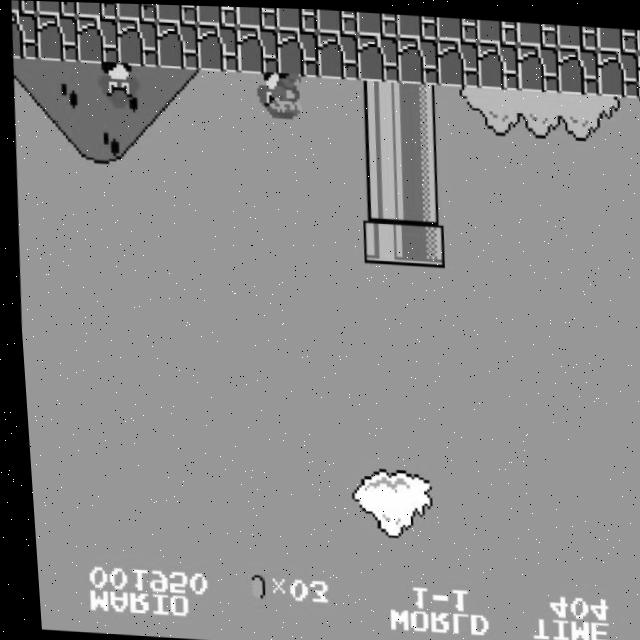11- little_mario: (257, 69, 305, 120)
14- pipe: (355, 78, 401, 126), (396, 126, 442, 174), (395, 80, 441, 128), (356, 123, 401, 171), (357, 170, 402, 217), (397, 172, 442, 219)
15- pipe_head: (357, 215, 403, 263), (397, 217, 443, 265)
17- undestructible_block: (274, 27, 320, 75), (314, 30, 360, 78), (354, 32, 400, 80), (394, 34, 440, 82), (434, 37, 480, 85), (474, 39, 520, 87), (34, 13, 79, 61), (74, 16, 119, 64), (114, 18, 159, 66), (154, 21, 199, 69), (194, 22, 239, 70), (234, 25, 279, 73), (515, 41, 560, 89), (555, 43, 600, 91), (595, 46, 640, 94), (9, 12, 39, 60), (315, 7, 358, 32), (355, 10, 398, 35), (395, 12, 438, 37), (435, 14, 478, 39), (475, 17, 518, 42), (515, 19, 558, 44), (555, 21, 598, 46), (595, 23, 638, 48), (275, 6, 318, 29), (235, 5, 278, 27), (195, 5, 238, 25), (155, 4, 198, 23), (115, 3, 158, 21), (75, 2, 118, 18), (35, 1, 78, 16), (10, 0, 37, 14), (635, 48, 640, 94), (636, 25, 640, 49)
8- goomba: (92, 60, 140, 111), (250, 69, 297, 120)
